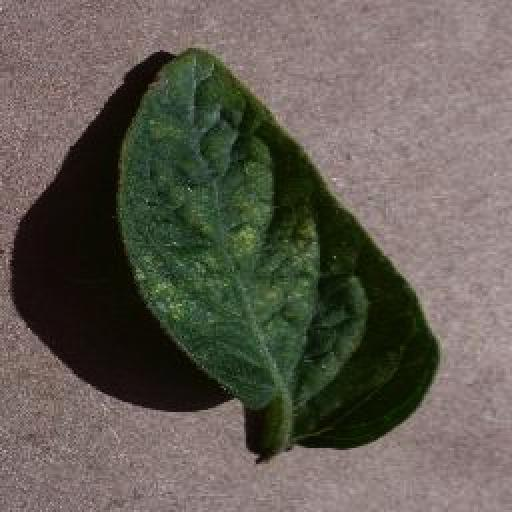disease_tomato: (115, 49, 437, 451)
